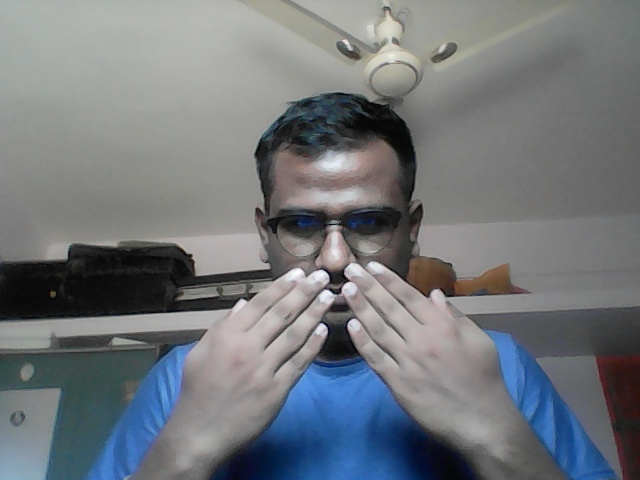Thank You: (179, 257, 505, 437)
